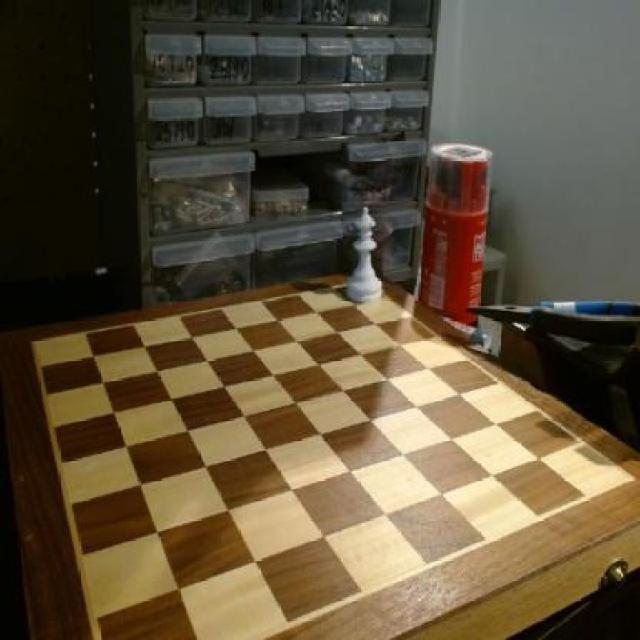white-pawn: (342, 203, 382, 308)
